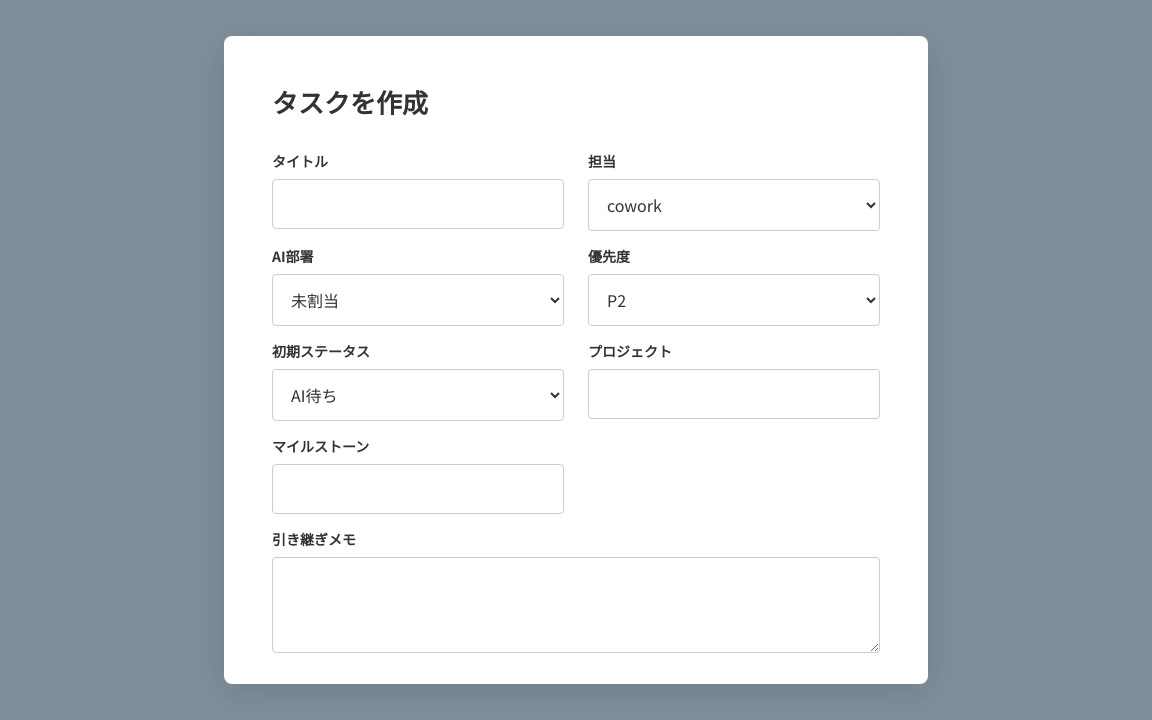
Test: CreateTaskDialog › owner=human を選ぶと AI部署欄は表示されない（不変条件のUI反映）
Select "human" in the dropdown labelled "担当" at x=734, y=205, box [588,179,880,231]
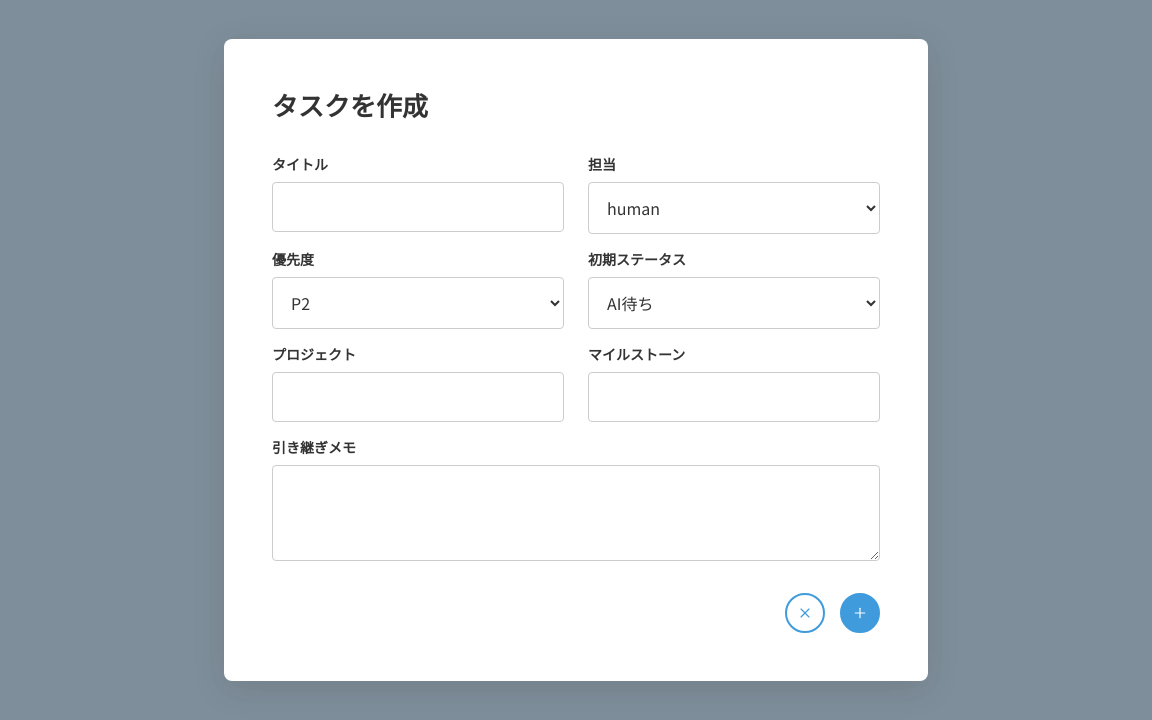
Expected: the text labelled "AI部署" is gone
